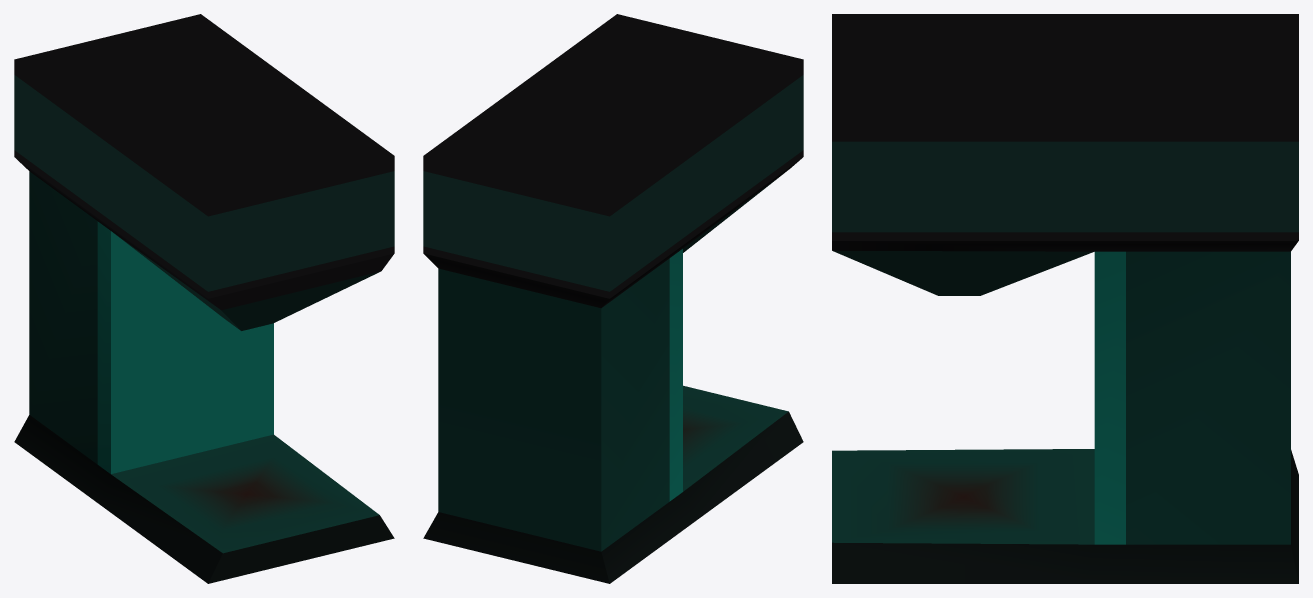
The model's file is coffeeMachineVColor.fbx.
3 renders of one model, left to right at view 1: azimuth 30°, elevation 25°; view 2: azimuth 150°, elevation 25°; view 3: azimuth 270°, elevation 25°, orthographic. The views are drawn at different scales.
Visible parts, largest first — view 1: CoffeeMachine; view 2: CoffeeMachine; view 3: CoffeeMachine.
Part boxes in pixels (x1,y1,x2,y2): CoffeeMachine: (14,14,394,583); CoffeeMachine: (423,14,803,583); CoffeeMachine: (832,14,1298,583).
Bounding box in the file's own units: 6.69 × 13.11 × 12.05.
